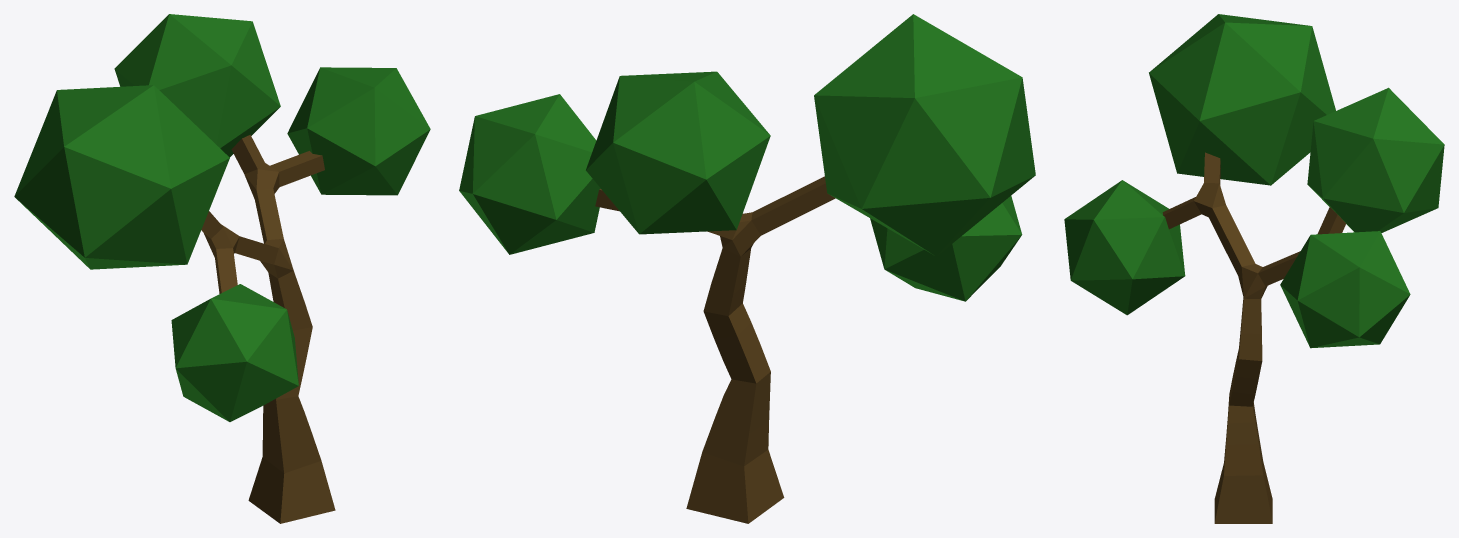
Rendered from Tree_LowPoly_1-5.fbx.
The picture shows the model from 3 angles, left to right: view 1: azimuth 30°, elevation 25°; view 2: azimuth 150°, elevation 25°; view 3: azimuth 270°, elevation 25°; orthographic projection. The views are drawn at different scales.
Parts seen in each view (by area): view 1: Tree_LowPoly_1-5; view 2: Tree_LowPoly_1-5; view 3: Tree_LowPoly_1-5.
Part boxes in pixels (left/top/right/bottom): Tree_LowPoly_1-5: left=14, top=14, right=430, bottom=523; Tree_LowPoly_1-5: left=459, top=14, right=1035, bottom=523; Tree_LowPoly_1-5: left=1064, top=14, right=1444, bottom=523.
Bounding box in the file's own units: 974 × 993 × 809.
